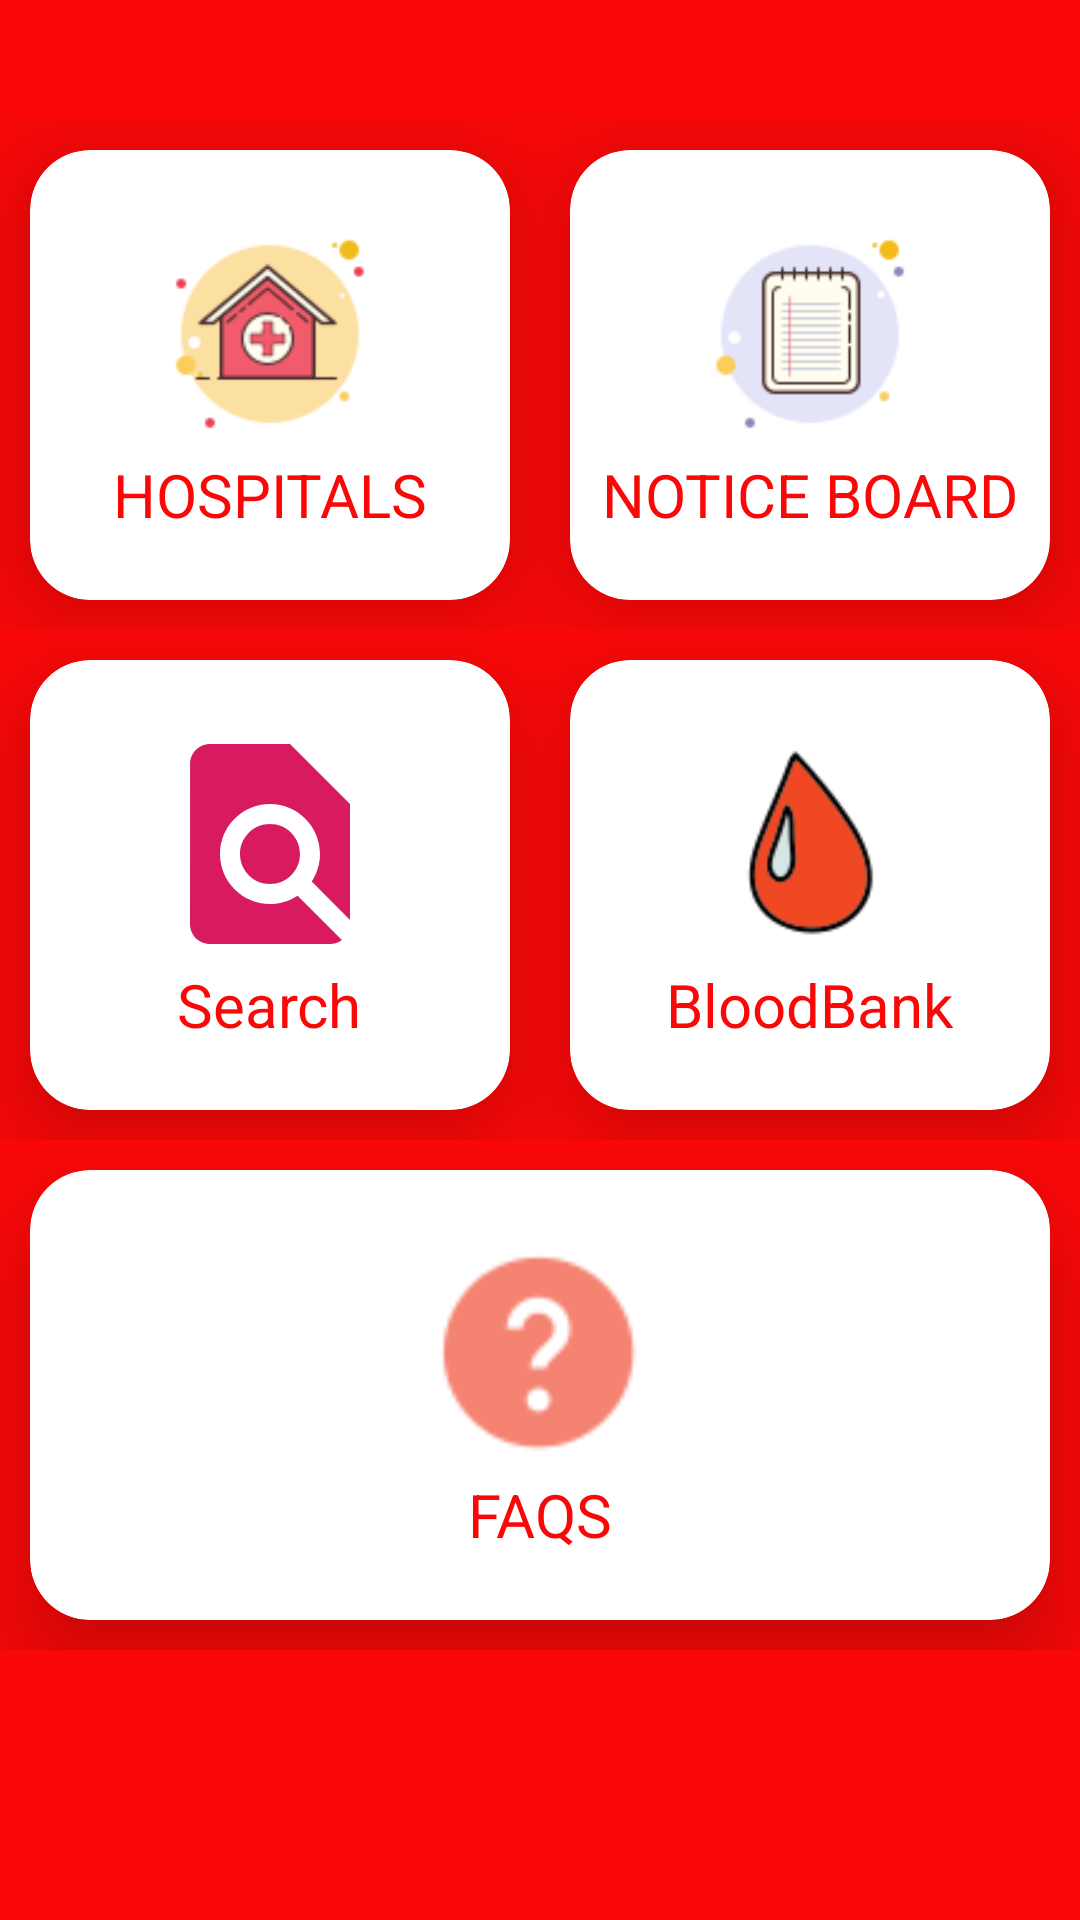

Where to tap for icons on this 1080*1920 app screen, as point (x, y):
help: point (538, 1352)
